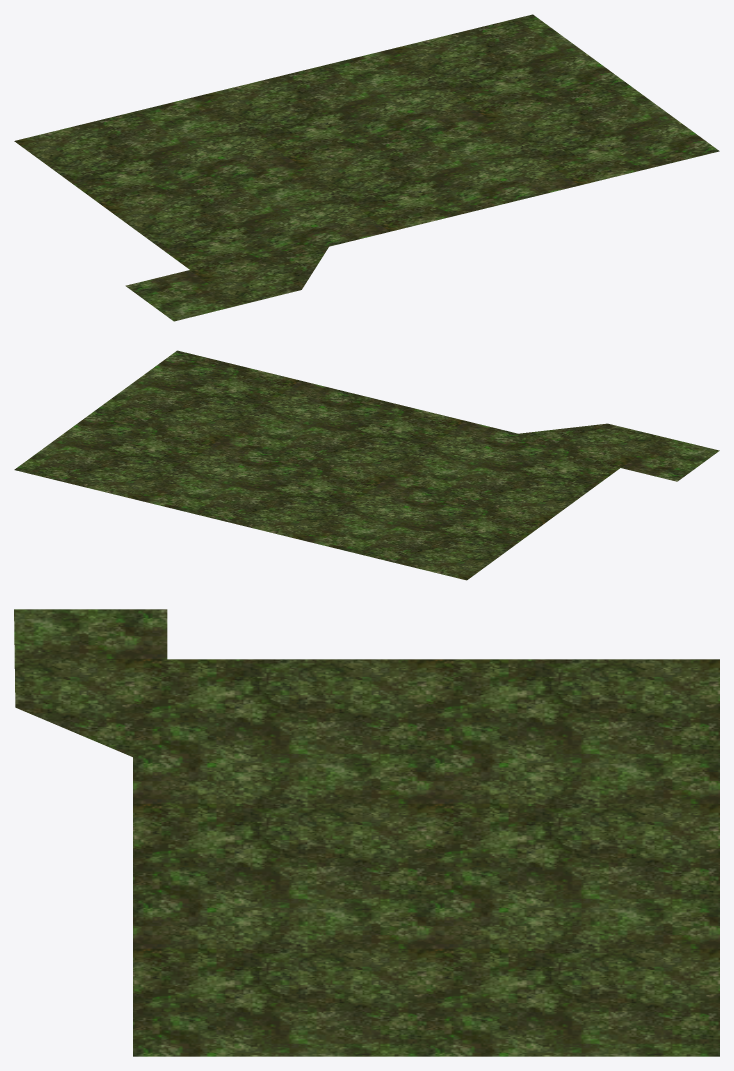
The model's file is OVERHILL_A_01_LINE156.fbx.
The picture shows the model from 3 angles, top to bottom: view 1: azimuth 30°, elevation 25°; view 2: azimuth 150°, elevation 25°; view 3: azimuth 270°, elevation 25°; orthographic projection. The views are drawn at different scales.
Visible parts, largest first — view 1: OVERHILL_A_01_LINE156; view 2: OVERHILL_A_01_LINE156; view 3: OVERHILL_A_01_LINE156.
Boxes of the visible parts, x1,y1,x2,y2 form: OVERHILL_A_01_LINE156: (14,14,719,321); OVERHILL_A_01_LINE156: (14,350,719,580); OVERHILL_A_01_LINE156: (14,609,719,1056).
Size of the model in its own units: 89913 by 0.0425 by 60000.
1 material, 1 textured.
